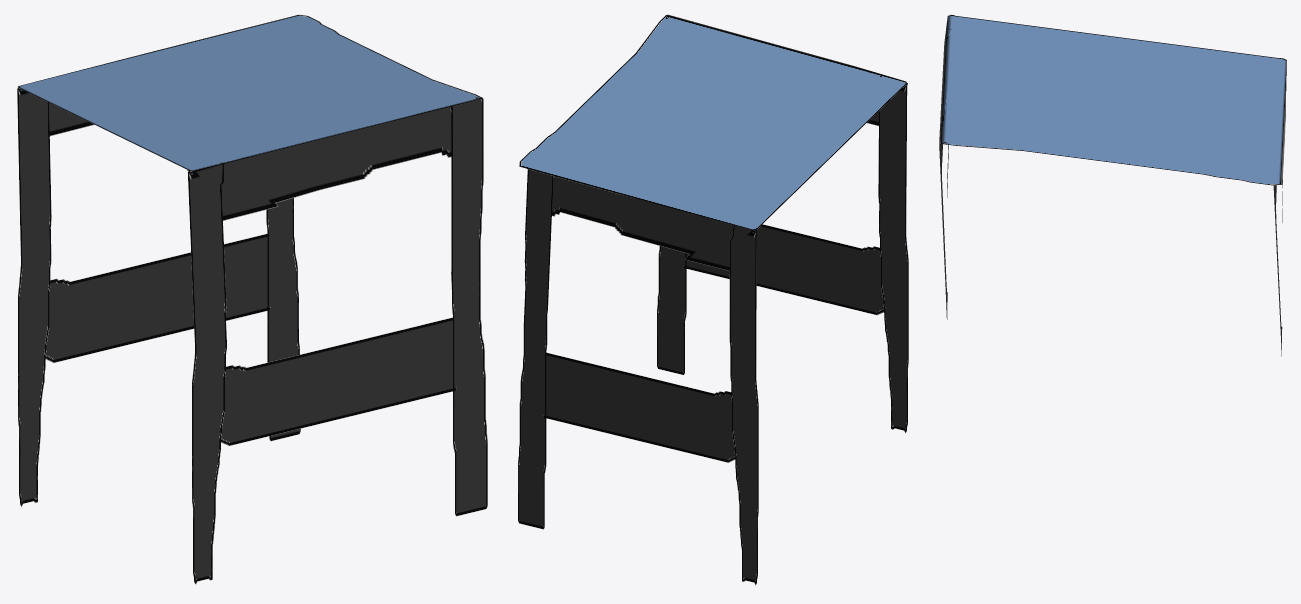
Rendered from desk2.fbx.
3 views of the same model, side by side, from view 1: azimuth 30°, elevation 25°; view 2: azimuth 150°, elevation 25°; view 3: azimuth 270°, elevation 25° (orthographic). The views are drawn at different scales.
Visible parts, largest first — view 1: Cube; view 2: Cube; view 3: Cube.
Part boxes in pixels (x1,y1,x2,y2): Cube: (17,14,487,584); Cube: (518,14,908,585); Cube: (939,14,1286,356).
Bounding box in the file's own units: 83.51 × 126 × 87.68.
1 material, 1 textured.
